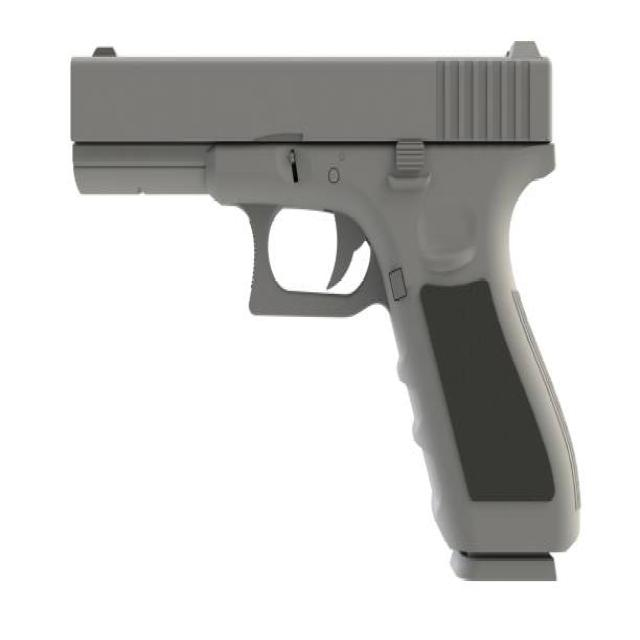pistol: (64, 25, 586, 598)
